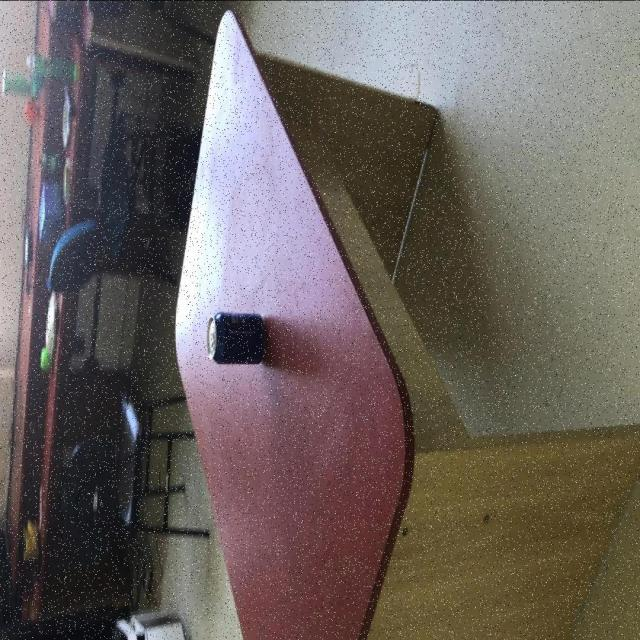Tonic: (206, 309, 265, 364), (26, 52, 76, 82), (1, 68, 36, 98), (36, 150, 64, 172)
